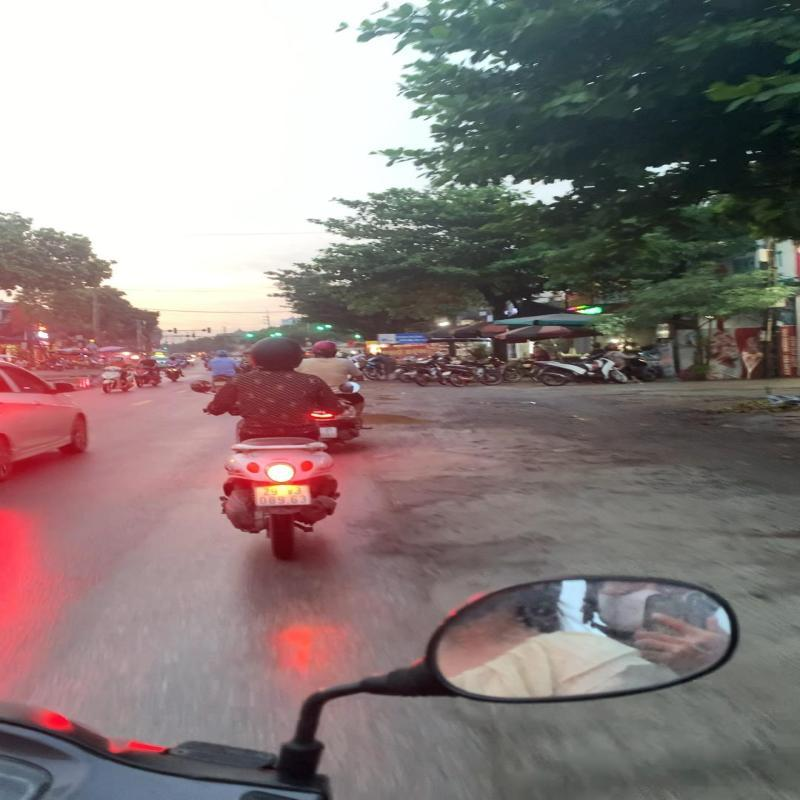licenseplate: (187, 334, 364, 561)
